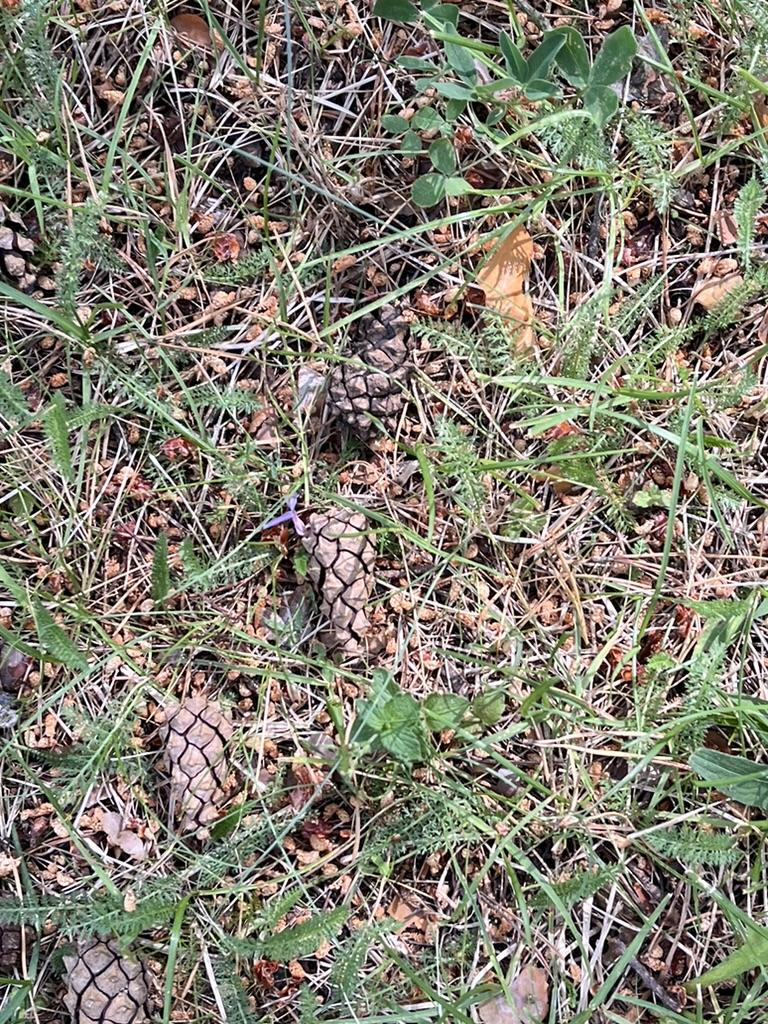pine: (301, 306, 468, 460), (288, 488, 391, 660), (148, 693, 254, 850), (38, 938, 186, 1024), (0, 123, 61, 305), (0, 863, 28, 965)
